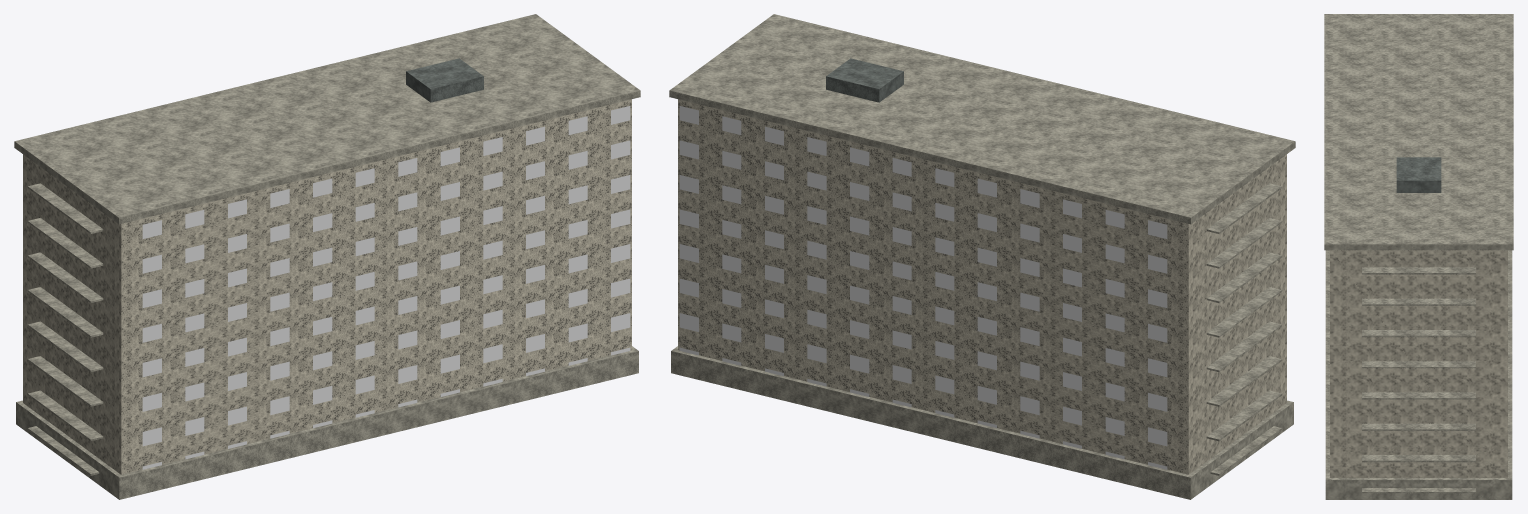
The model's file is Strategic_Apartment_Slab.fbx.
3 renders of one model, left to right at view 1: azimuth 30°, elevation 25°; view 2: azimuth 150°, elevation 25°; view 3: azimuth 270°, elevation 25°, orthographic. The views are drawn at different scales.
Visible parts, largest first — view 1: Strategic_Apartment_Slab; view 2: Strategic_Apartment_Slab; view 3: Strategic_Apartment_Slab.
Boxes of the visible parts, bbox=[...] form: Strategic_Apartment_Slab: bbox=[14, 14, 640, 499]; Strategic_Apartment_Slab: bbox=[669, 14, 1295, 499]; Strategic_Apartment_Slab: bbox=[1324, 14, 1513, 499].
Size of the model in its own units: 5040 by 2660 by 1700.
